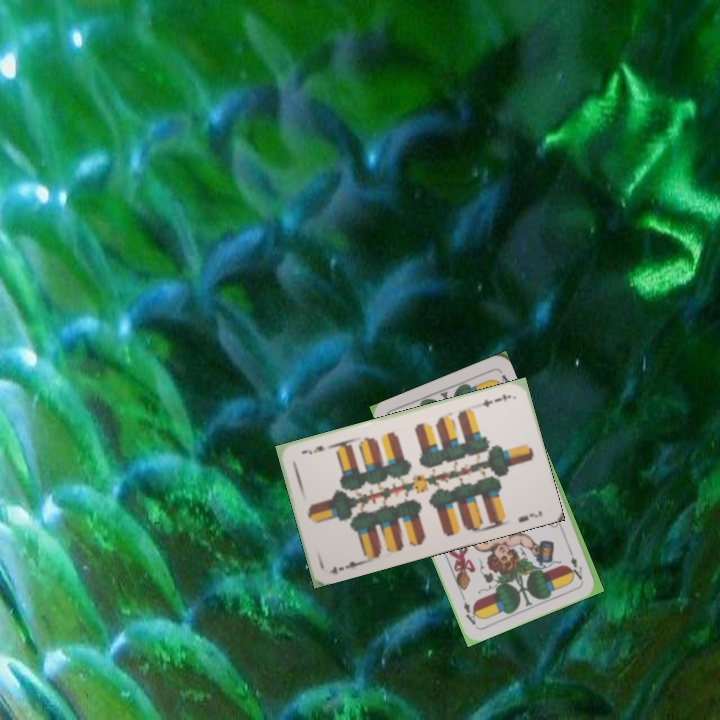E7: (325, 557, 365, 577), (478, 390, 513, 410)
EA: (564, 544, 585, 582)
